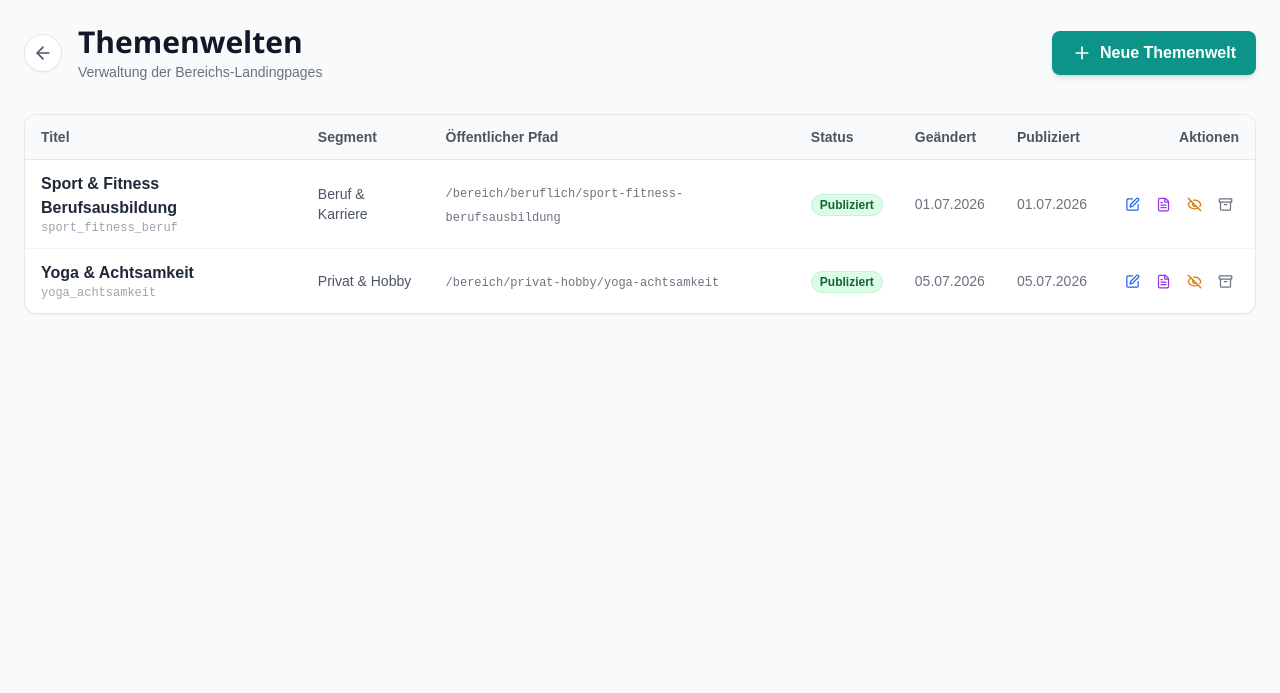
Test: Edit-Modus Regression › Yoga wird korrekt geladen
Expected: the text "Yoga & Achtsamkeit" is shown, [41,264,194,281]
Click the button titled "Bearbeiten" in the row of "Yoga & Achtsamkeit" at (1132, 281), box [1119,268,1146,294]
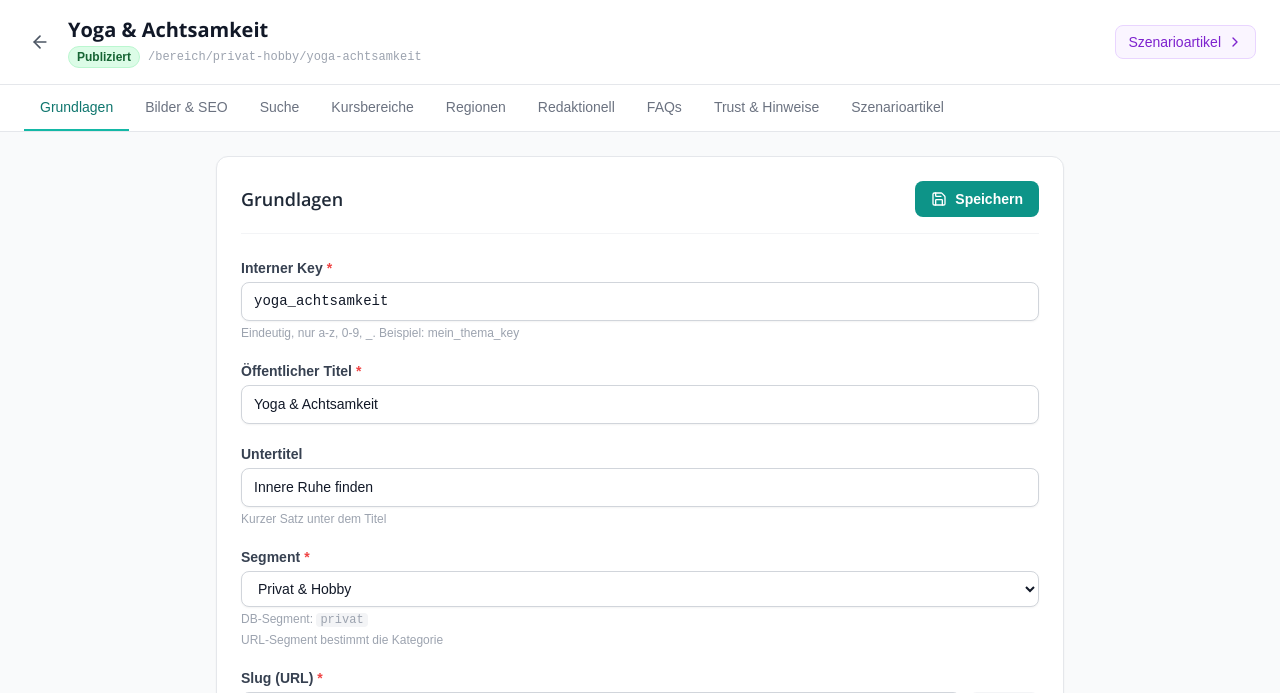
Expected: the dropdown shows "Privat & Hobby", [241,571,1039,607]
